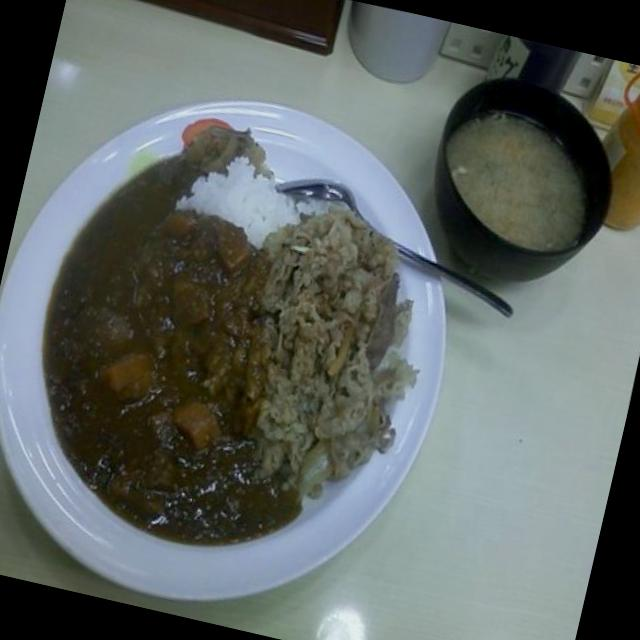Beef Curry: (32, 190, 327, 538)
